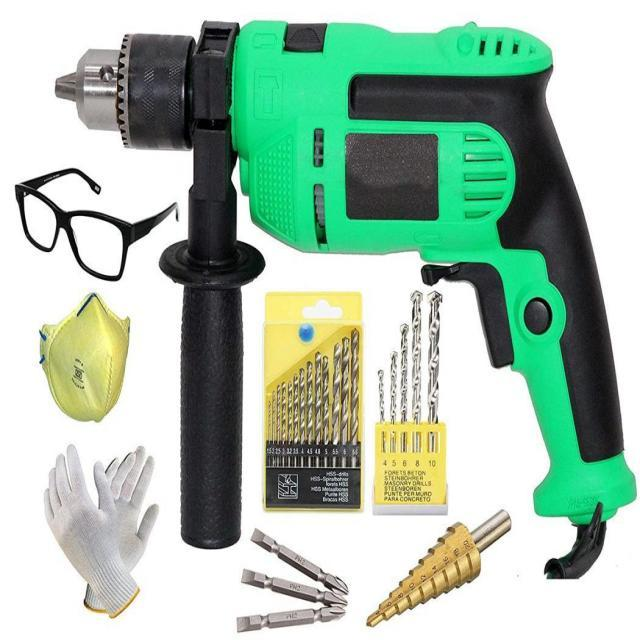drill: (54, 20, 638, 580)
